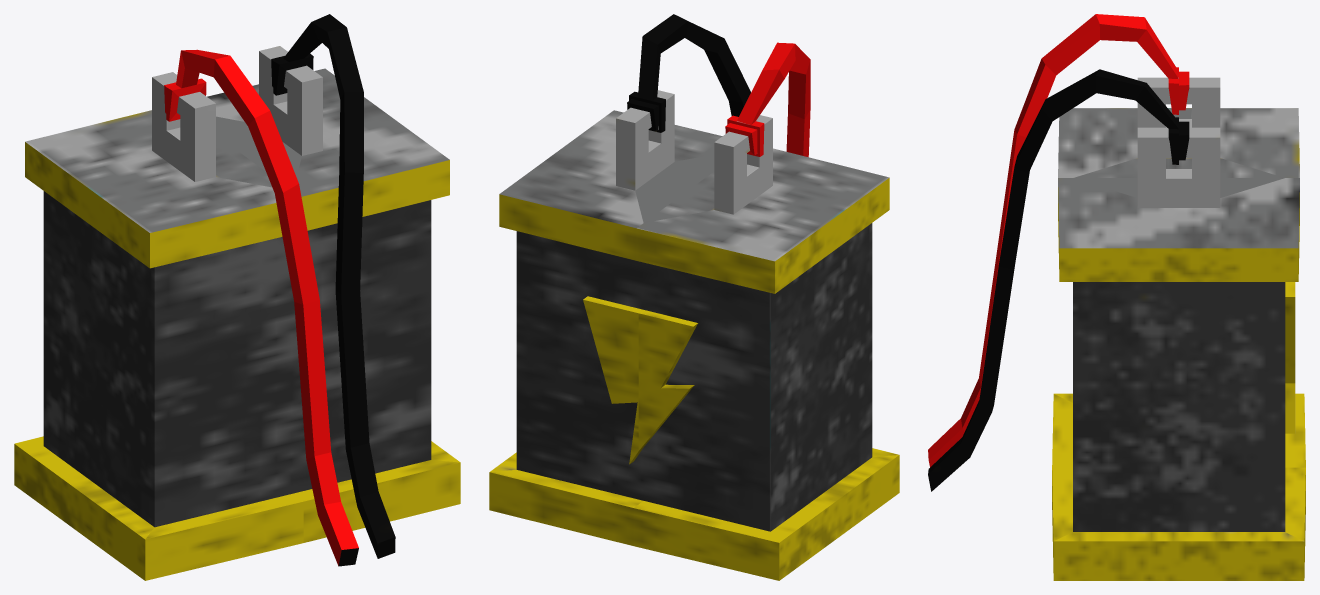
File: Ground Booster.fbx
3 views of the same model, side by side, from view 1: azimuth 30°, elevation 25°; view 2: azimuth 150°, elevation 25°; view 3: azimuth 270°, elevation 25° (orthographic). The views are drawn at different scales.
Parts seen in each view (by area): view 1: Cube; view 2: Cube; view 3: Cube.
Part boxes in pixels (bbox=[...]): Cube: bbox=[14, 14, 460, 580]; Cube: bbox=[489, 14, 899, 580]; Cube: bbox=[928, 14, 1305, 580].
Size of the model in its own units: 0.6654 by 0.973 by 0.7208.
